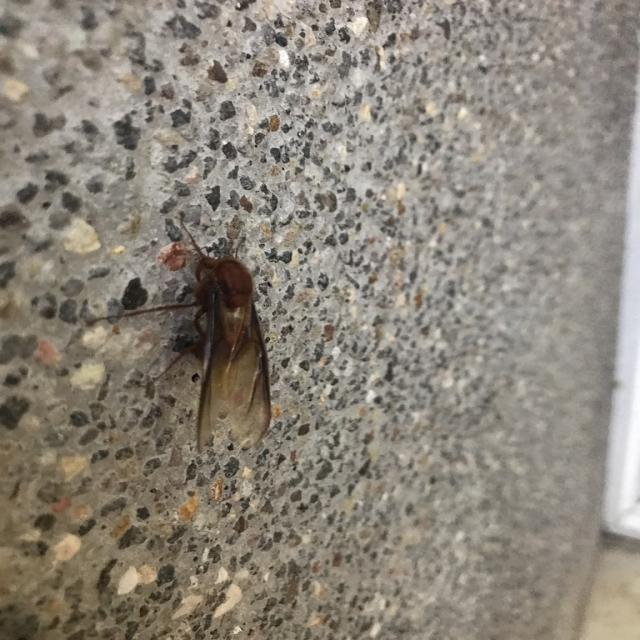Alive-Male-Alate: (85, 210, 272, 454)
